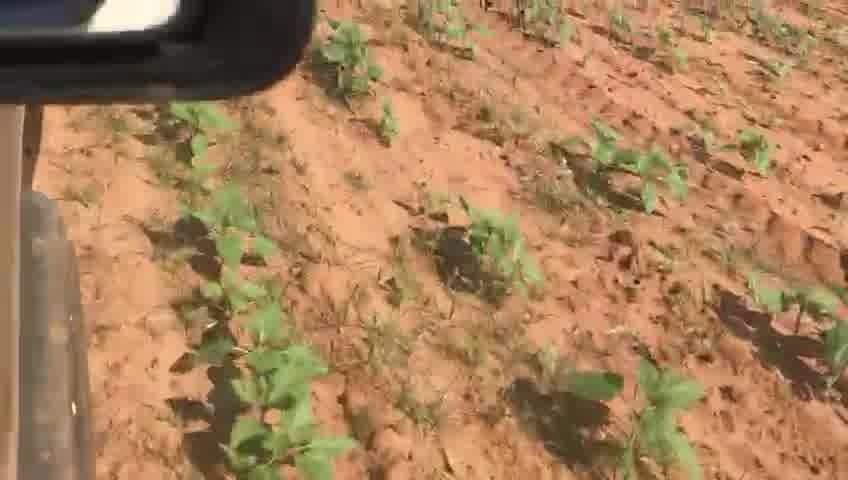sunflower: (611, 356, 722, 475), (202, 406, 357, 472), (749, 277, 842, 387), (583, 129, 693, 214), (447, 206, 546, 293), (202, 339, 322, 409), (196, 265, 295, 345), (192, 183, 276, 265), (318, 13, 384, 100), (170, 100, 240, 158), (433, 5, 495, 55), (368, 102, 407, 145)
